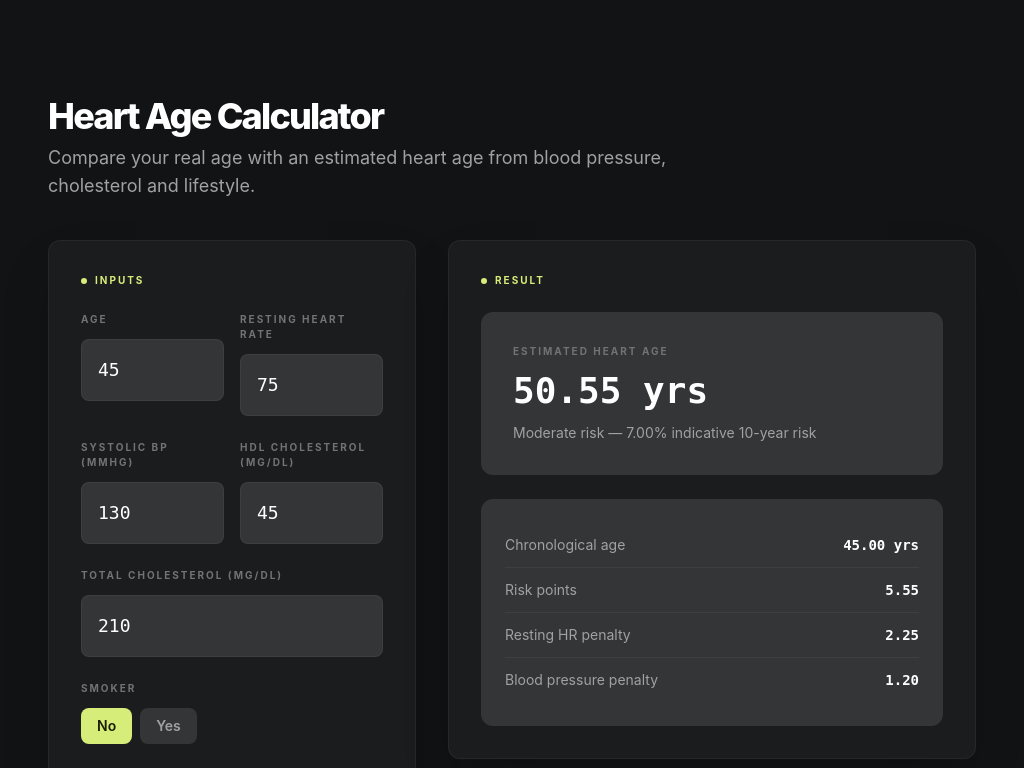
Test: HeartAgeCalculator › lowers heart age when resting heart rate drops
Step 1. Replace the text in the number field labelled "Resting heart rate" with "60" → point(312, 385), box [240,354,383,416]
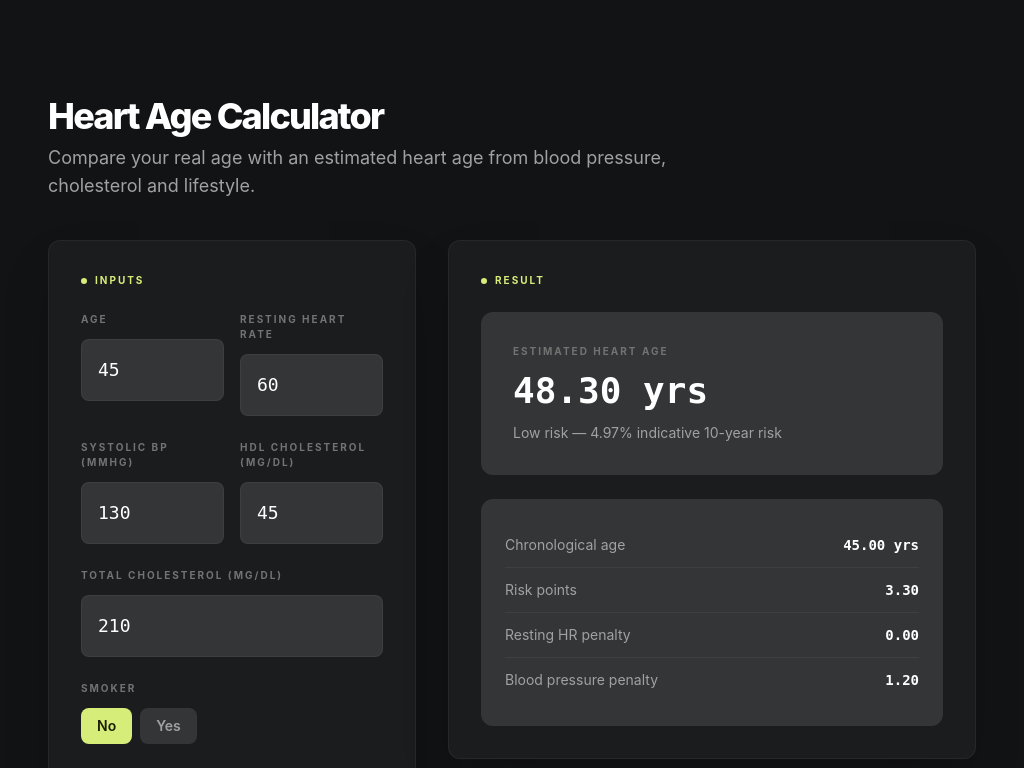
Expected: the text "0.00" is shown, [885,625,919,645]
